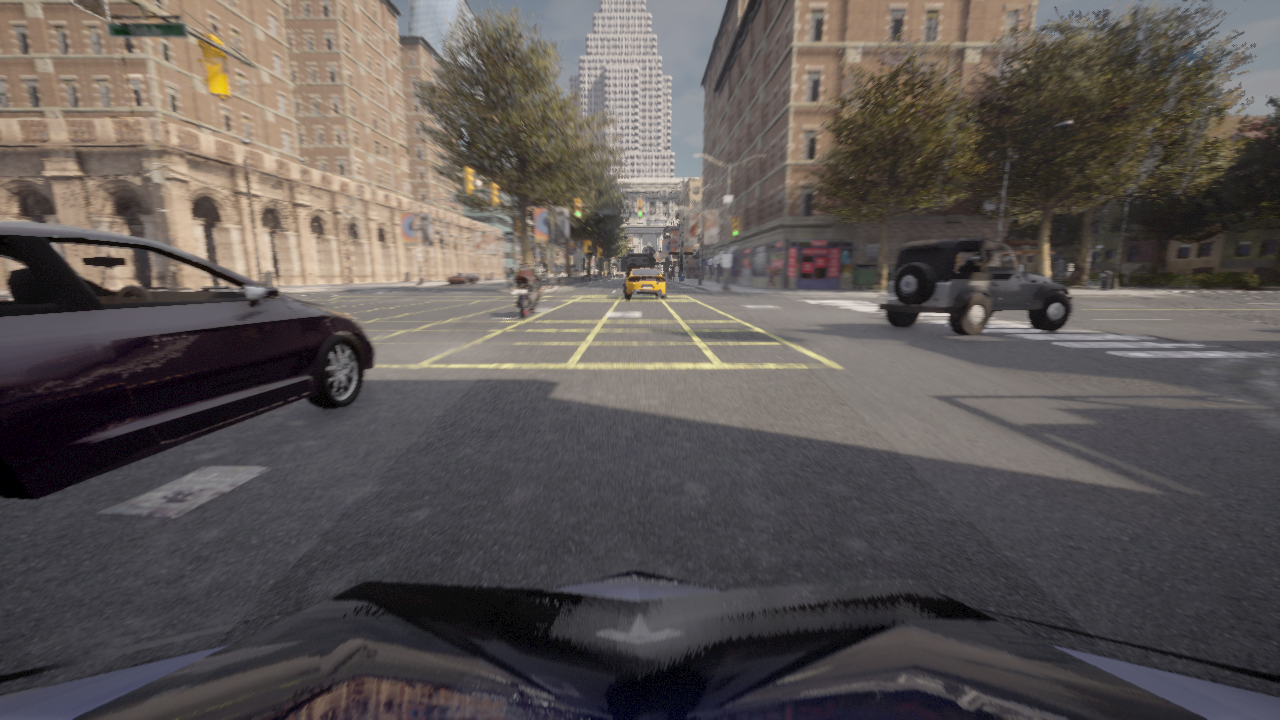cyclist: (0, 569, 1279, 719), (878, 238, 1072, 335), (513, 274, 545, 317), (623, 268, 665, 299), (625, 253, 654, 275), (447, 273, 479, 285)
